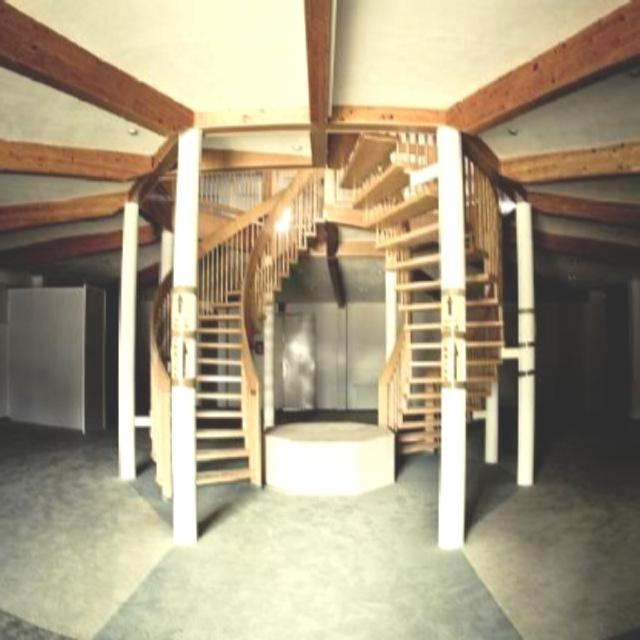stair: (150, 132, 504, 504)
